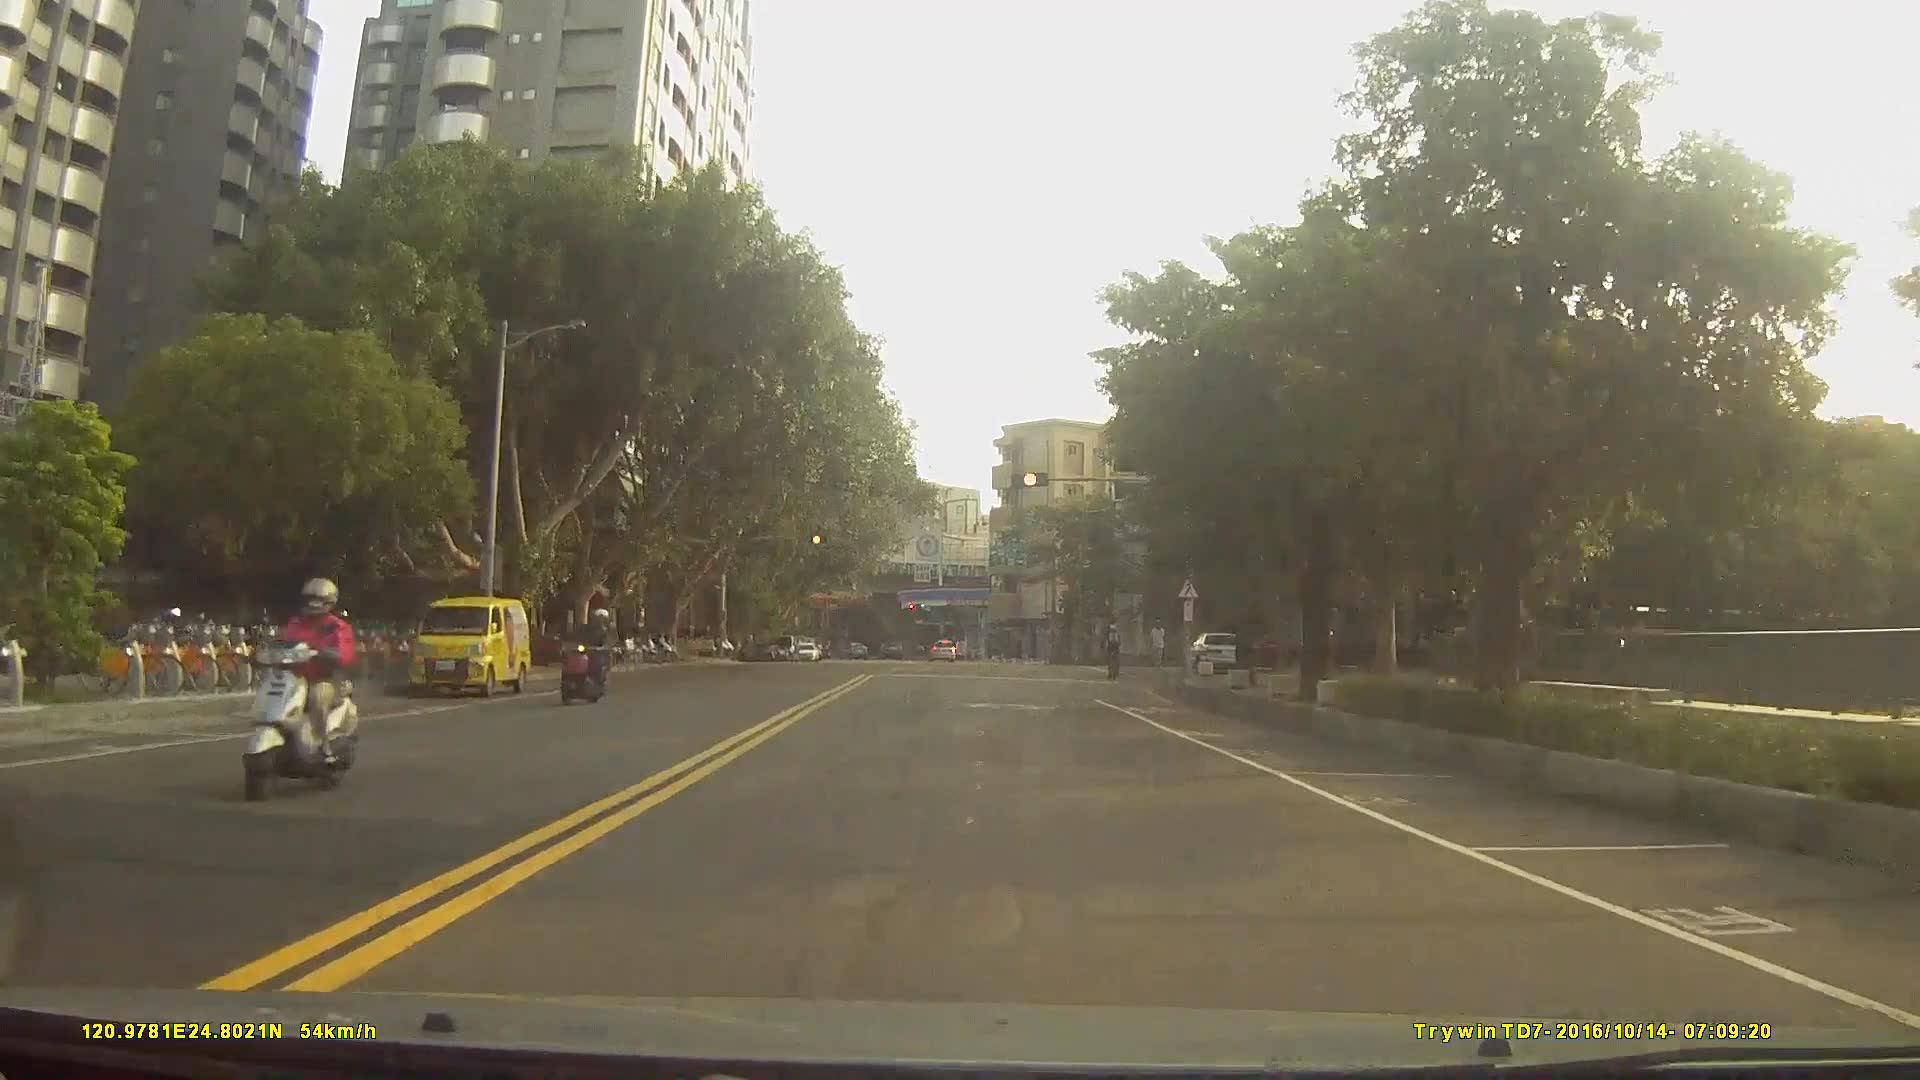pedestrian: (1148, 617, 1168, 672)
rider: (240, 575, 365, 799), (559, 605, 617, 705), (1104, 619, 1126, 679)
vehicle: (1185, 629, 1244, 670), (930, 638, 956, 662)
